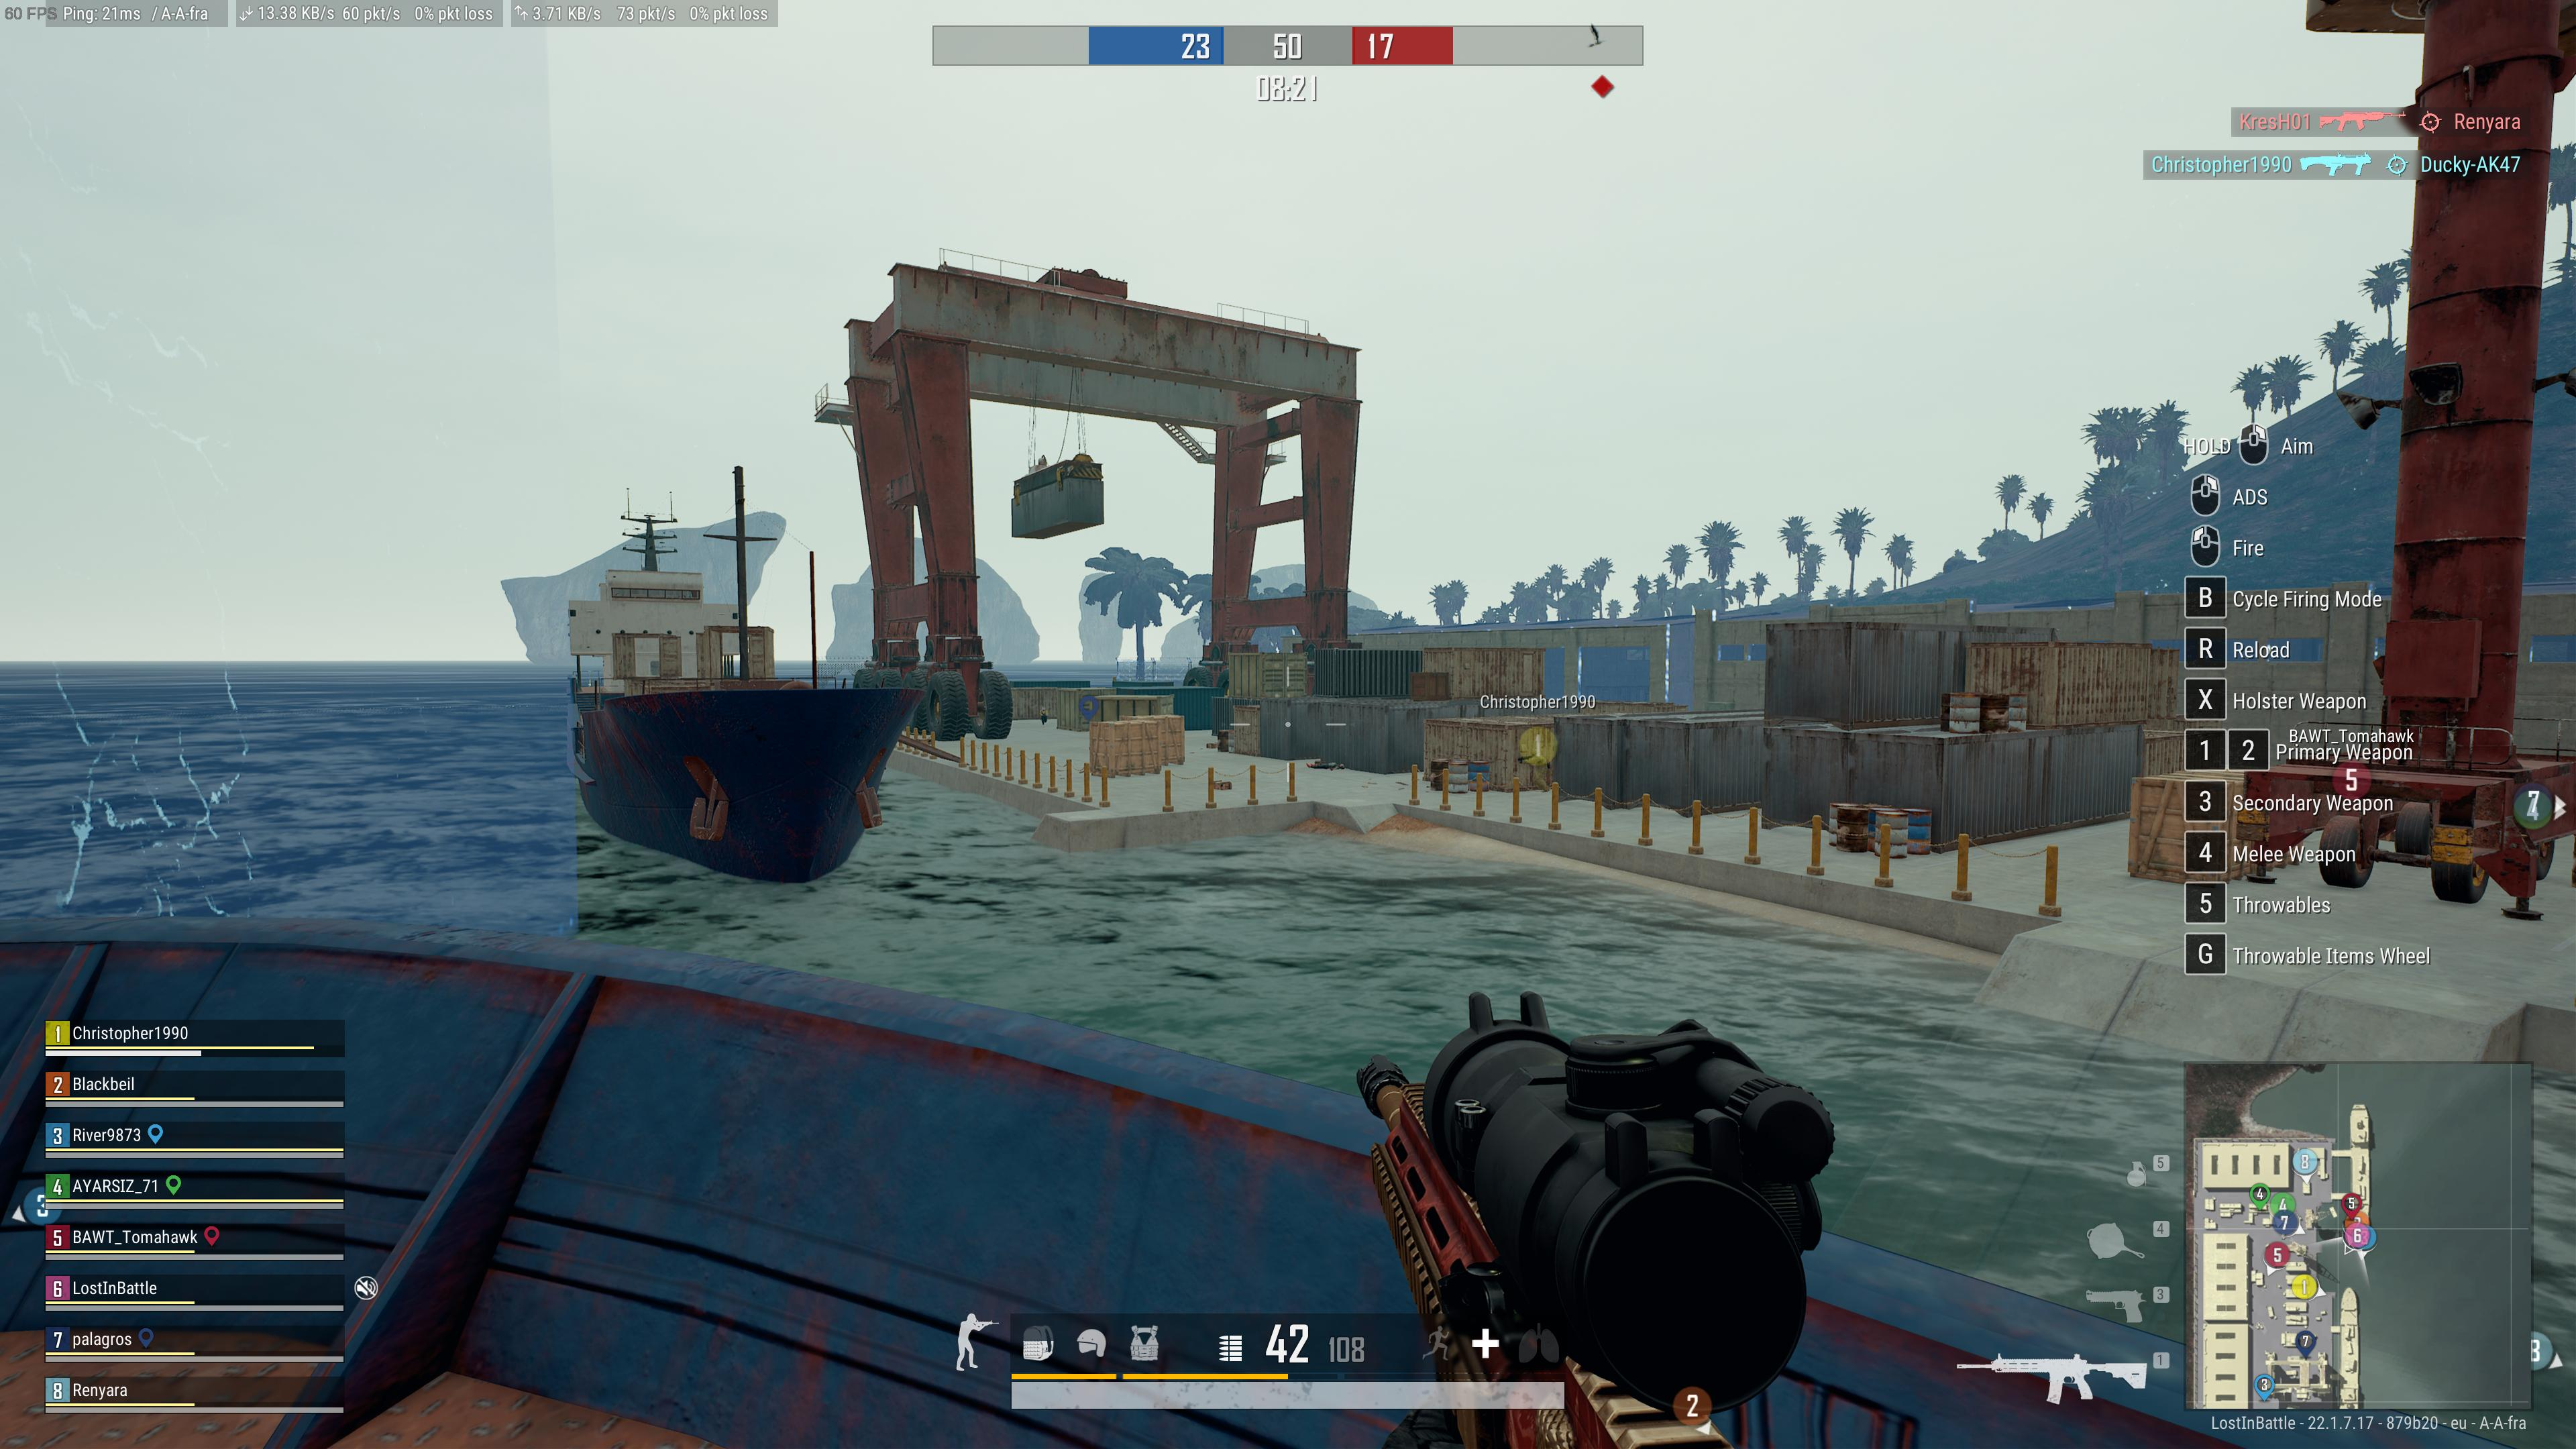enemy: (1039, 706, 1047, 725)
enemy_head: (1040, 706, 1046, 711)
friendly: (1518, 743, 1552, 793)
